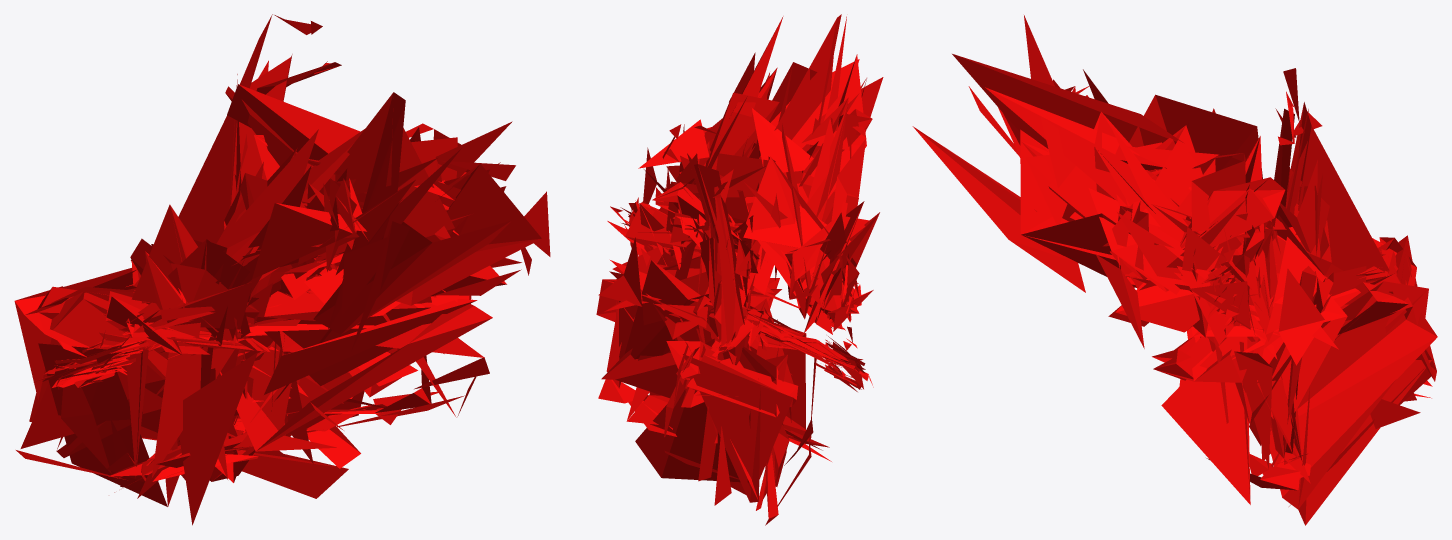
The picture shows the model from 3 angles, left to right: view 1: azimuth 30°, elevation 25°; view 2: azimuth 150°, elevation 25°; view 3: azimuth 270°, elevation 25°; orthographic projection. The views are drawn at different scales.
Parts seen in each view (by area): view 1: Renderer Node; view 2: Renderer Node; view 3: Renderer Node.
Part boxes in pixels (bbox=[...]): Renderer Node: bbox=[14, 14, 550, 525]; Renderer Node: bbox=[596, 14, 883, 525]; Renderer Node: bbox=[912, 15, 1437, 525].
Bounding box in the file's own units: 0.5738 × 0.7106 × 0.7112.
1 material, 1 textured.
